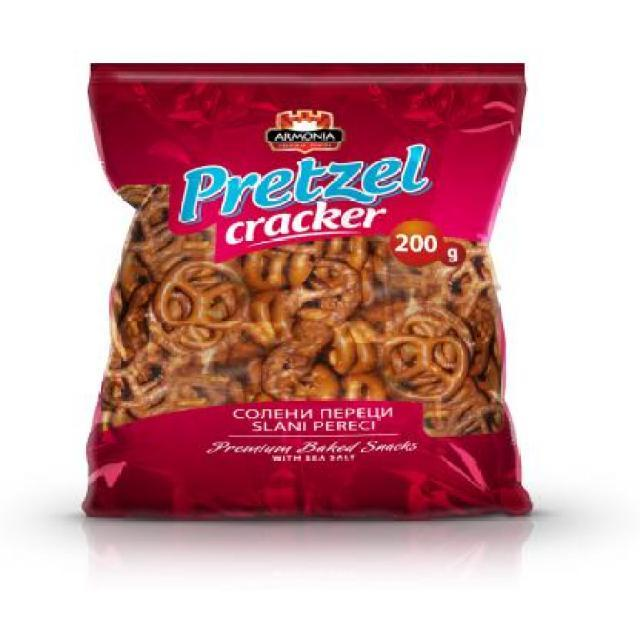Salatini: (76, 59, 538, 527)
